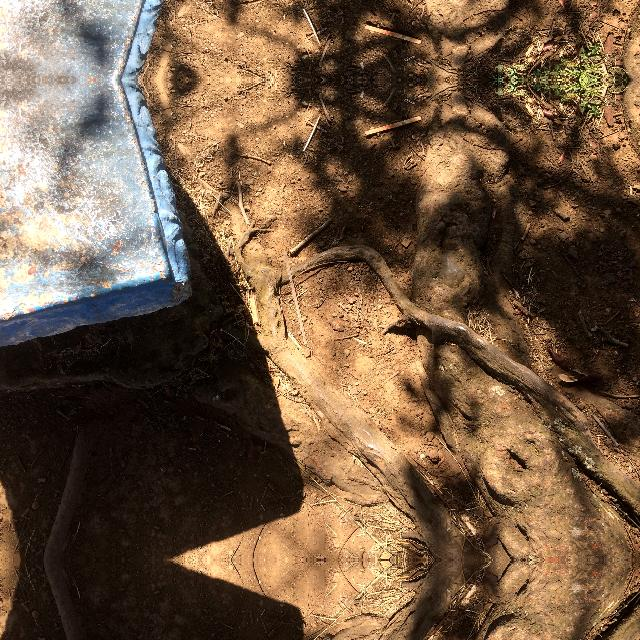Plastic: (282, 250, 308, 346), (300, 116, 320, 152), (300, 8, 320, 44)
